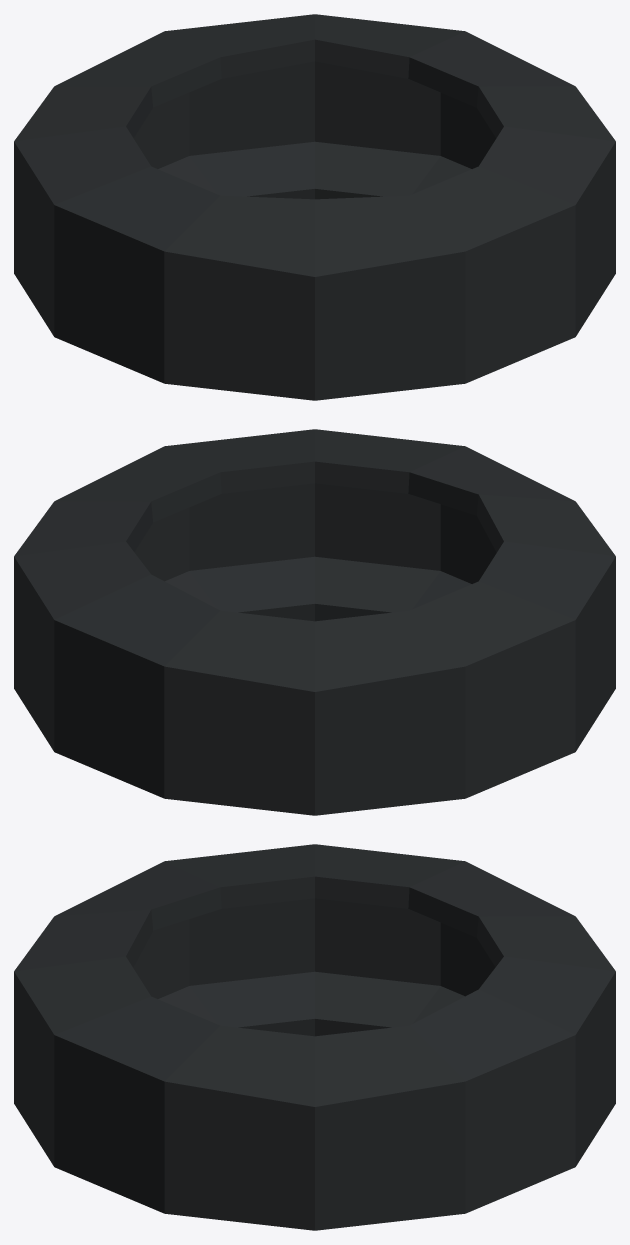
File: SM_Prop_Tire_01.glb
3 views of the same model, one above another, from view 1: azimuth 30°, elevation 25°; view 2: azimuth 150°, elevation 25°; view 3: azimuth 270°, elevation 25° (orthographic).
Visible parts, largest first — view 1: SM_Prop_Tire_01; view 2: SM_Prop_Tire_01; view 3: SM_Prop_Tire_01.
Boxes of the visible parts, left/top/right/bottom form: SM_Prop_Tire_01: left=14, top=14, right=615, bottom=400; SM_Prop_Tire_01: left=14, top=429, right=615, bottom=815; SM_Prop_Tire_01: left=14, top=844, right=615, bottom=1230.
Size of the model in its own units: 0.7245 by 0.2245 by 0.7245.
Materials: 1 (1 with a texture image).
